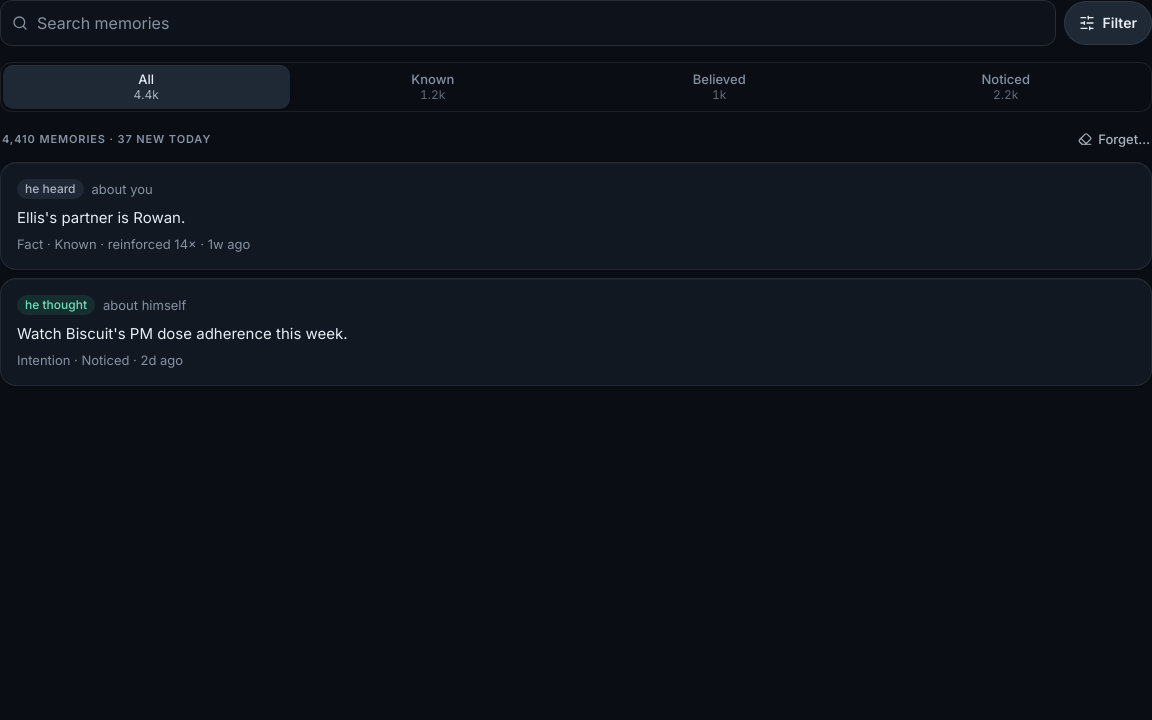
Test: MemoryBrowser › opens where a memory came from when the card is tapped, with the details tucked inside
Click the button "Ellis's partner is Rowan.".
click(50, 189)  # box [0,162,1151,270]
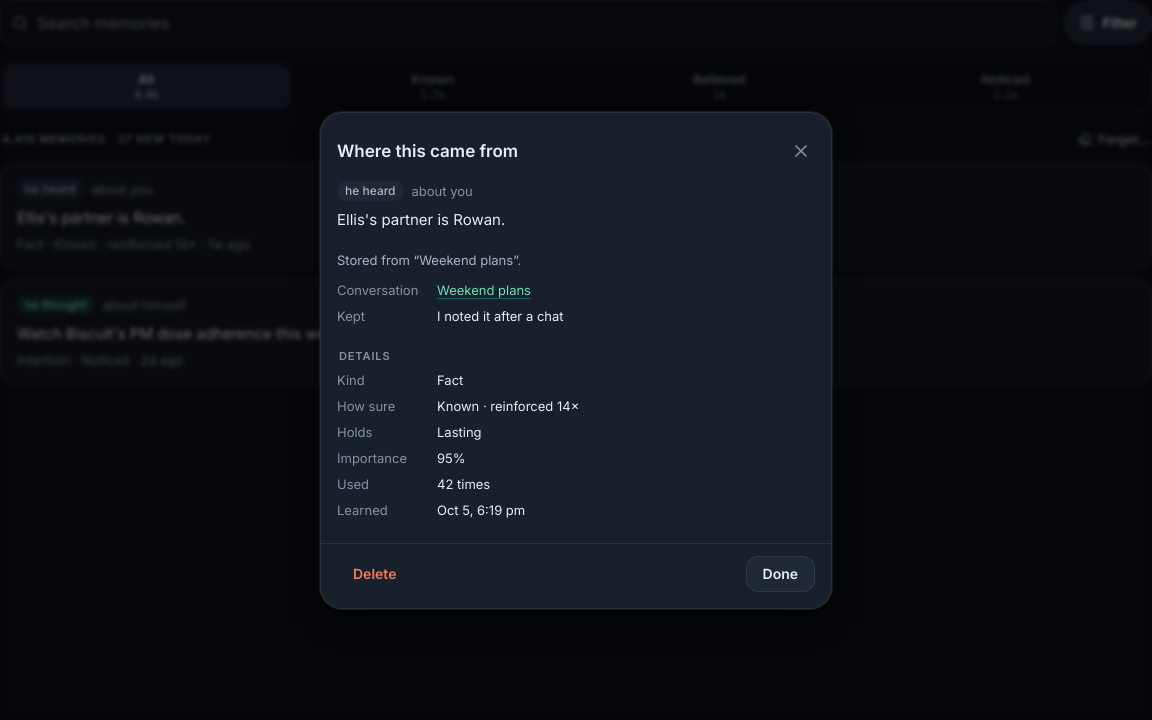
Expected: the text "Stored from “Weekend plans”." is shown, [337,252,521,268]
Expected: the text "Importance" is shown, [337,450,407,466]
Expected: the text "95%" is shown, [437,450,466,466]
